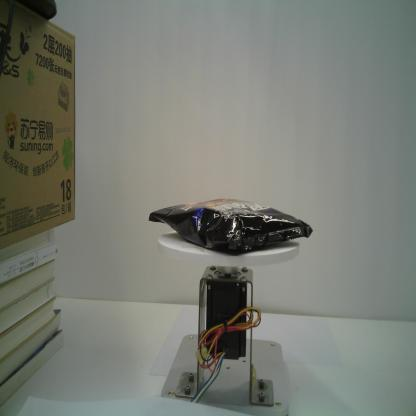Instant Noodles: (148, 199, 312, 254)
